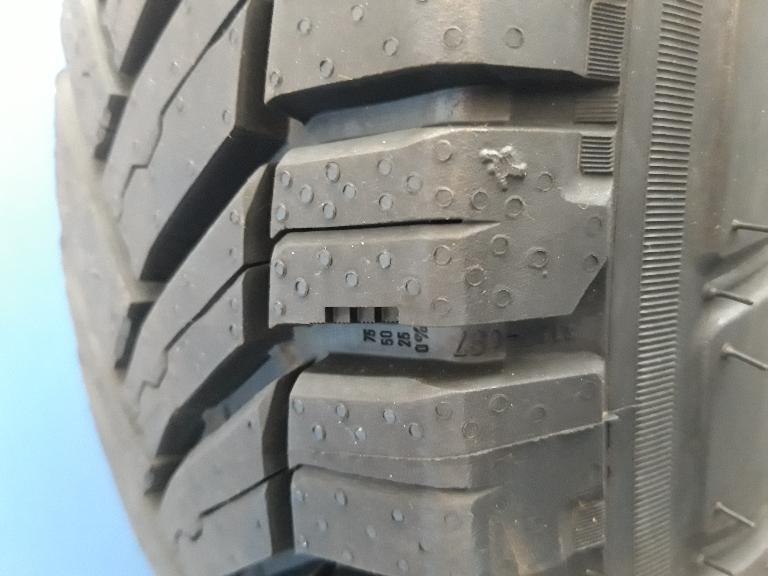temoin:100: (309, 305, 401, 326)
